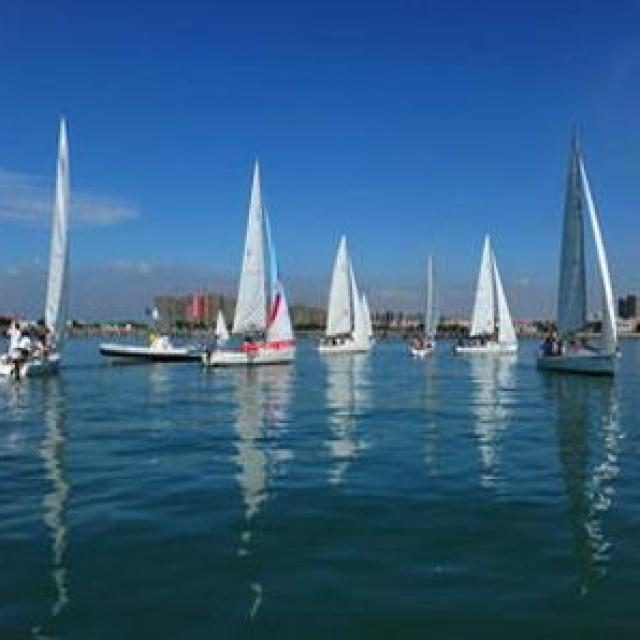houseboat: (97, 327, 206, 358)
sailboat: (0, 103, 78, 376), (533, 134, 620, 373), (206, 158, 298, 368), (456, 223, 515, 354), (318, 230, 377, 353), (402, 252, 444, 357)
